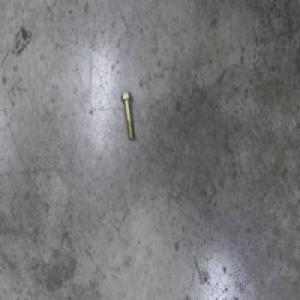Bolt: (120, 90, 134, 139)
